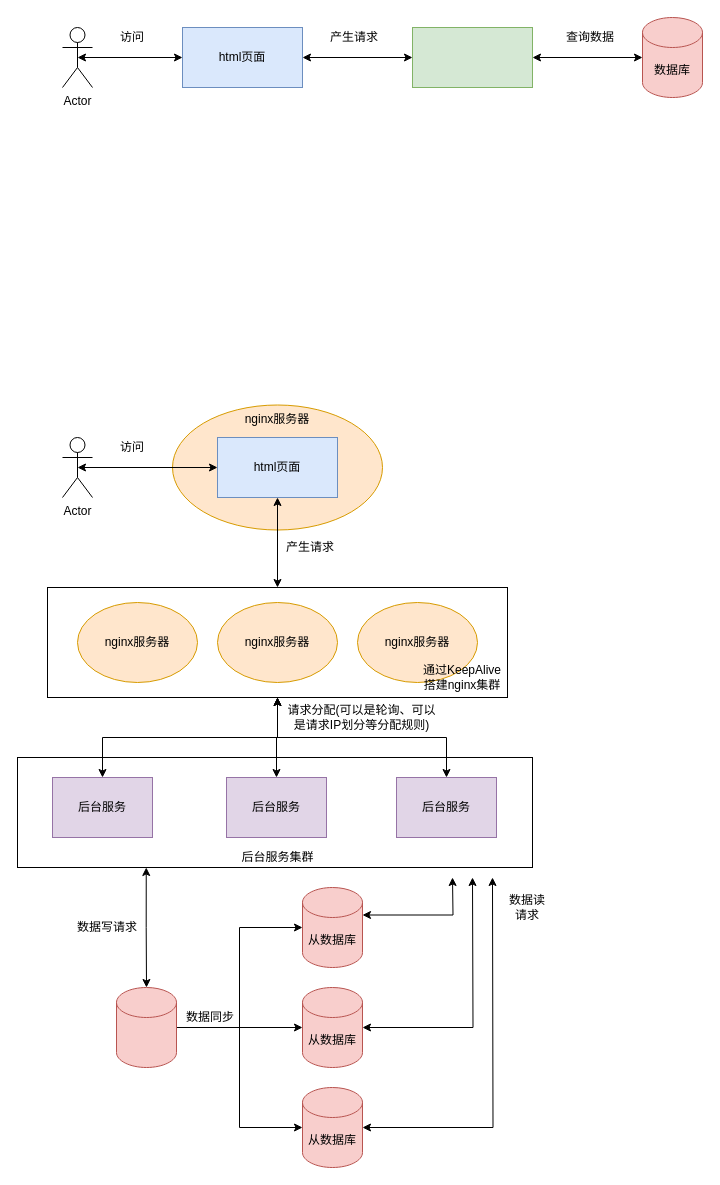
This 720x1185 diagram has some shape labels left out. The centre of each missing label's shape, as x and y in pixels:
主数据库: point 146,1027
后台系统: point 472,57
